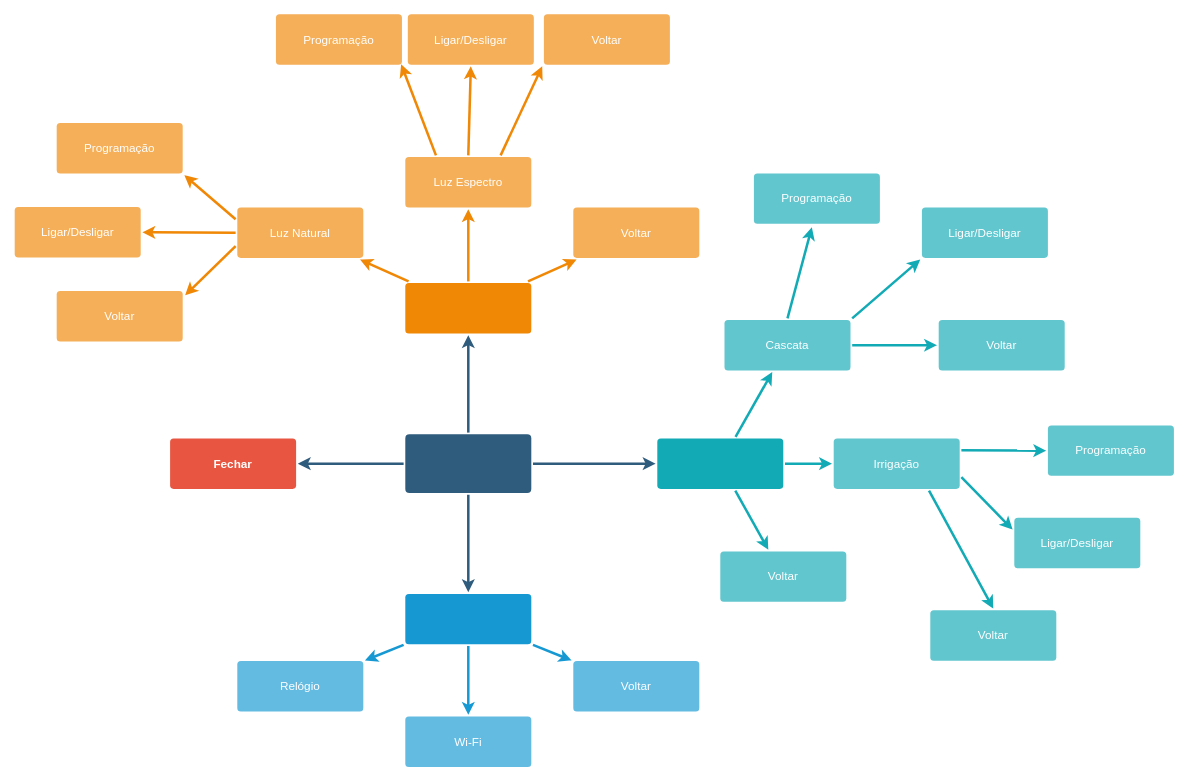
Image size: 1188x781. Some labels were removed from this diagram. The shapes that lost their labels are listed below. From the top down, each one's centre as x and y in pixels, then its label:
the point at 468,308: Iluminação
the point at 468,463: Configuração Terrário
the point at 720,463: Hidráulica
the point at 468,618: Sistema
